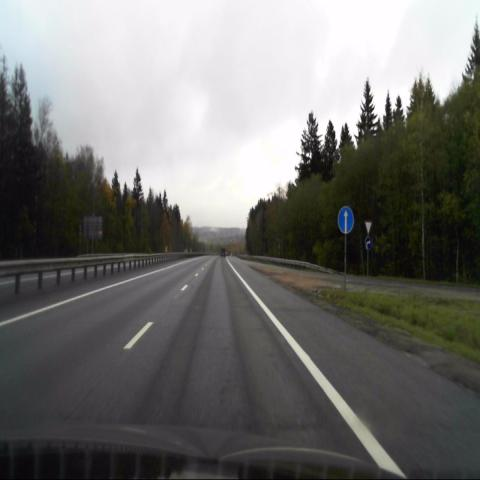2_4: (364, 220, 372, 235)
4_1_1: (338, 206, 354, 233)
4_1_2: (364, 237, 372, 250)
